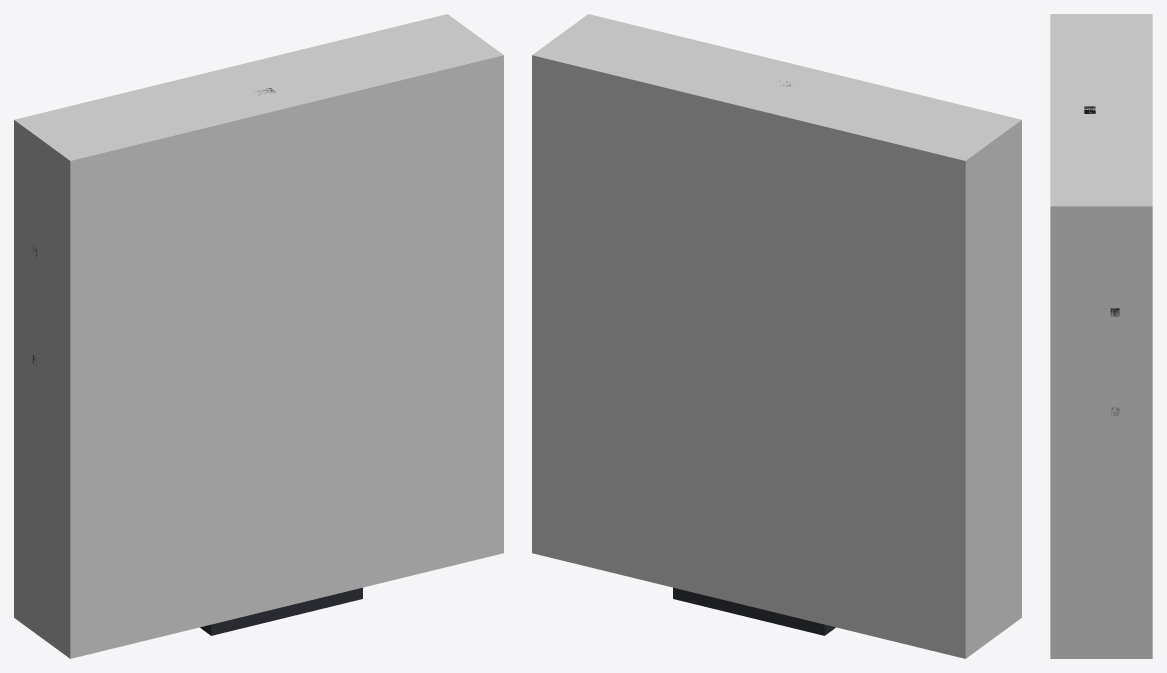
File: Tech_MonitorWall_B.gltf
3 views of the same model, side by side, from view 1: azimuth 30°, elevation 25°; view 2: azimuth 150°, elevation 25°; view 3: azimuth 270°, elevation 25° (orthographic). The views are drawn at different scales.
Parts seen in each view (by area): view 1: Tech_MonitorWall_B_COL, Tech_MonitorWall_B; view 2: Tech_MonitorWall_B_COL, Tech_MonitorWall_B; view 3: Tech_MonitorWall_B_COL, Tech_MonitorWall_B.
Boxes of the visible parts, x1,y1,x2,y2 form: Tech_MonitorWall_B_COL: (14, 14, 503, 658); Tech_MonitorWall_B: (32, 88, 362, 635); Tech_MonitorWall_B_COL: (532, 14, 1021, 658); Tech_MonitorWall_B: (673, 81, 835, 635); Tech_MonitorWall_B_COL: (1050, 14, 1152, 658); Tech_MonitorWall_B: (1084, 106, 1119, 415).
Size of the model in its own units: 2 by 2.25 by 0.45.
Materials: 11 (5 with a texture image).
